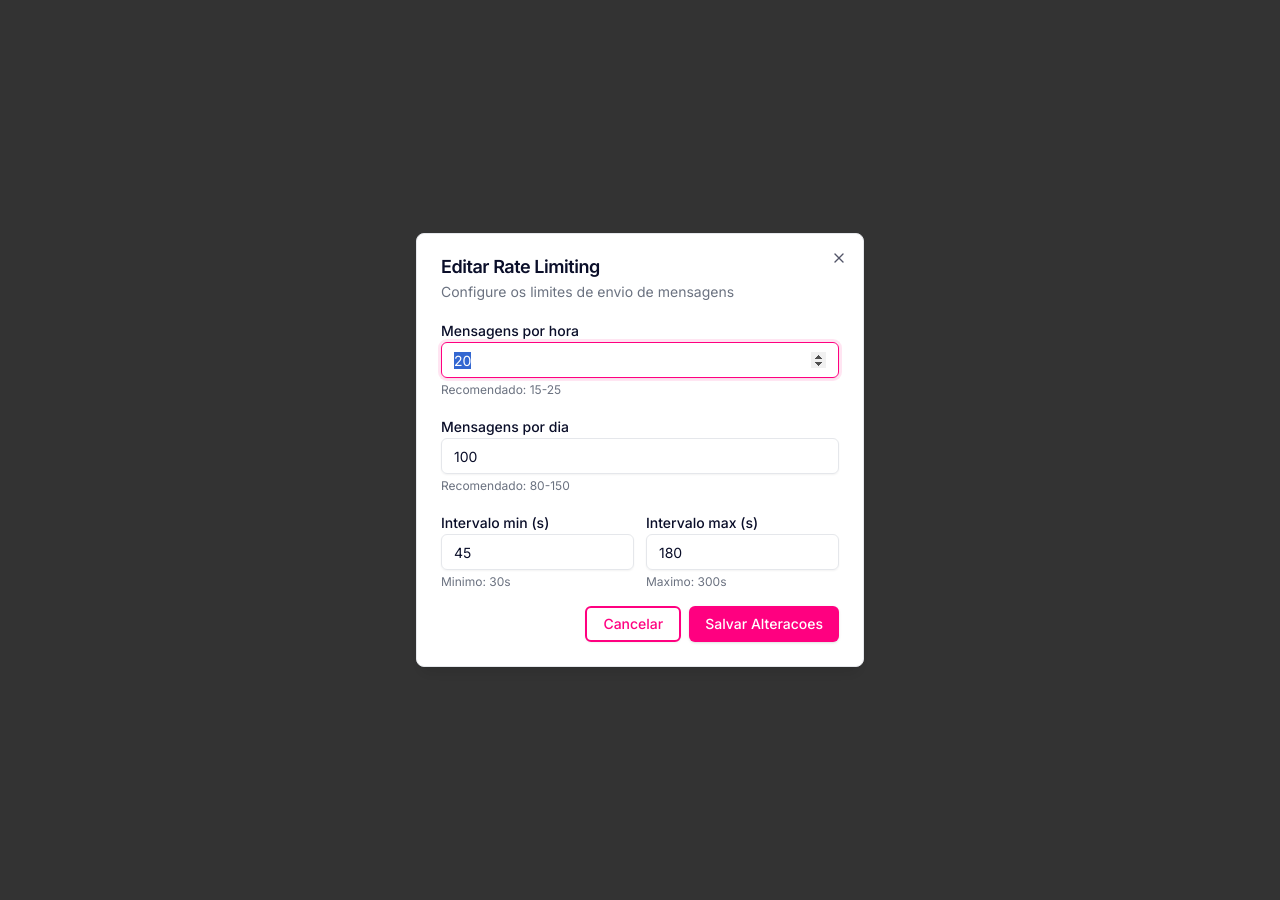
Scenario: EditRateLimitModal › deve mostrar alerta quando valores sao de alto risco
Replace the text in the number field labelled "Mensagens por hora" with "30" at x=640, y=360, box [441,342,839,378]
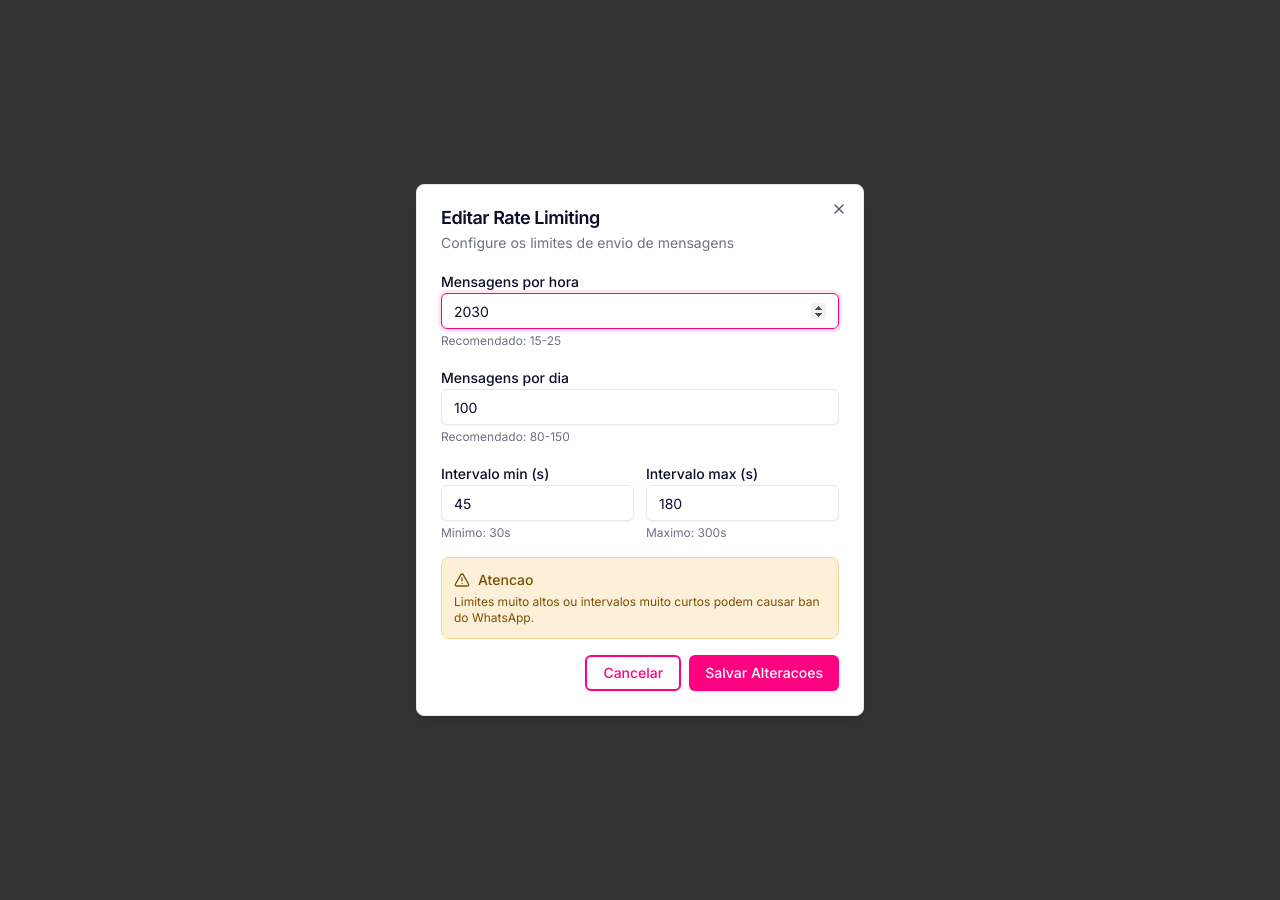
Expected: the text "Atencao" is shown, [478,570,534,590]
